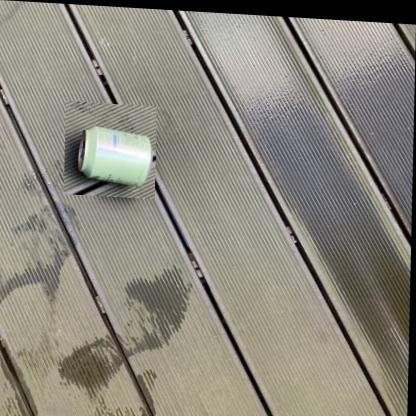trash: (78, 127, 152, 185)
